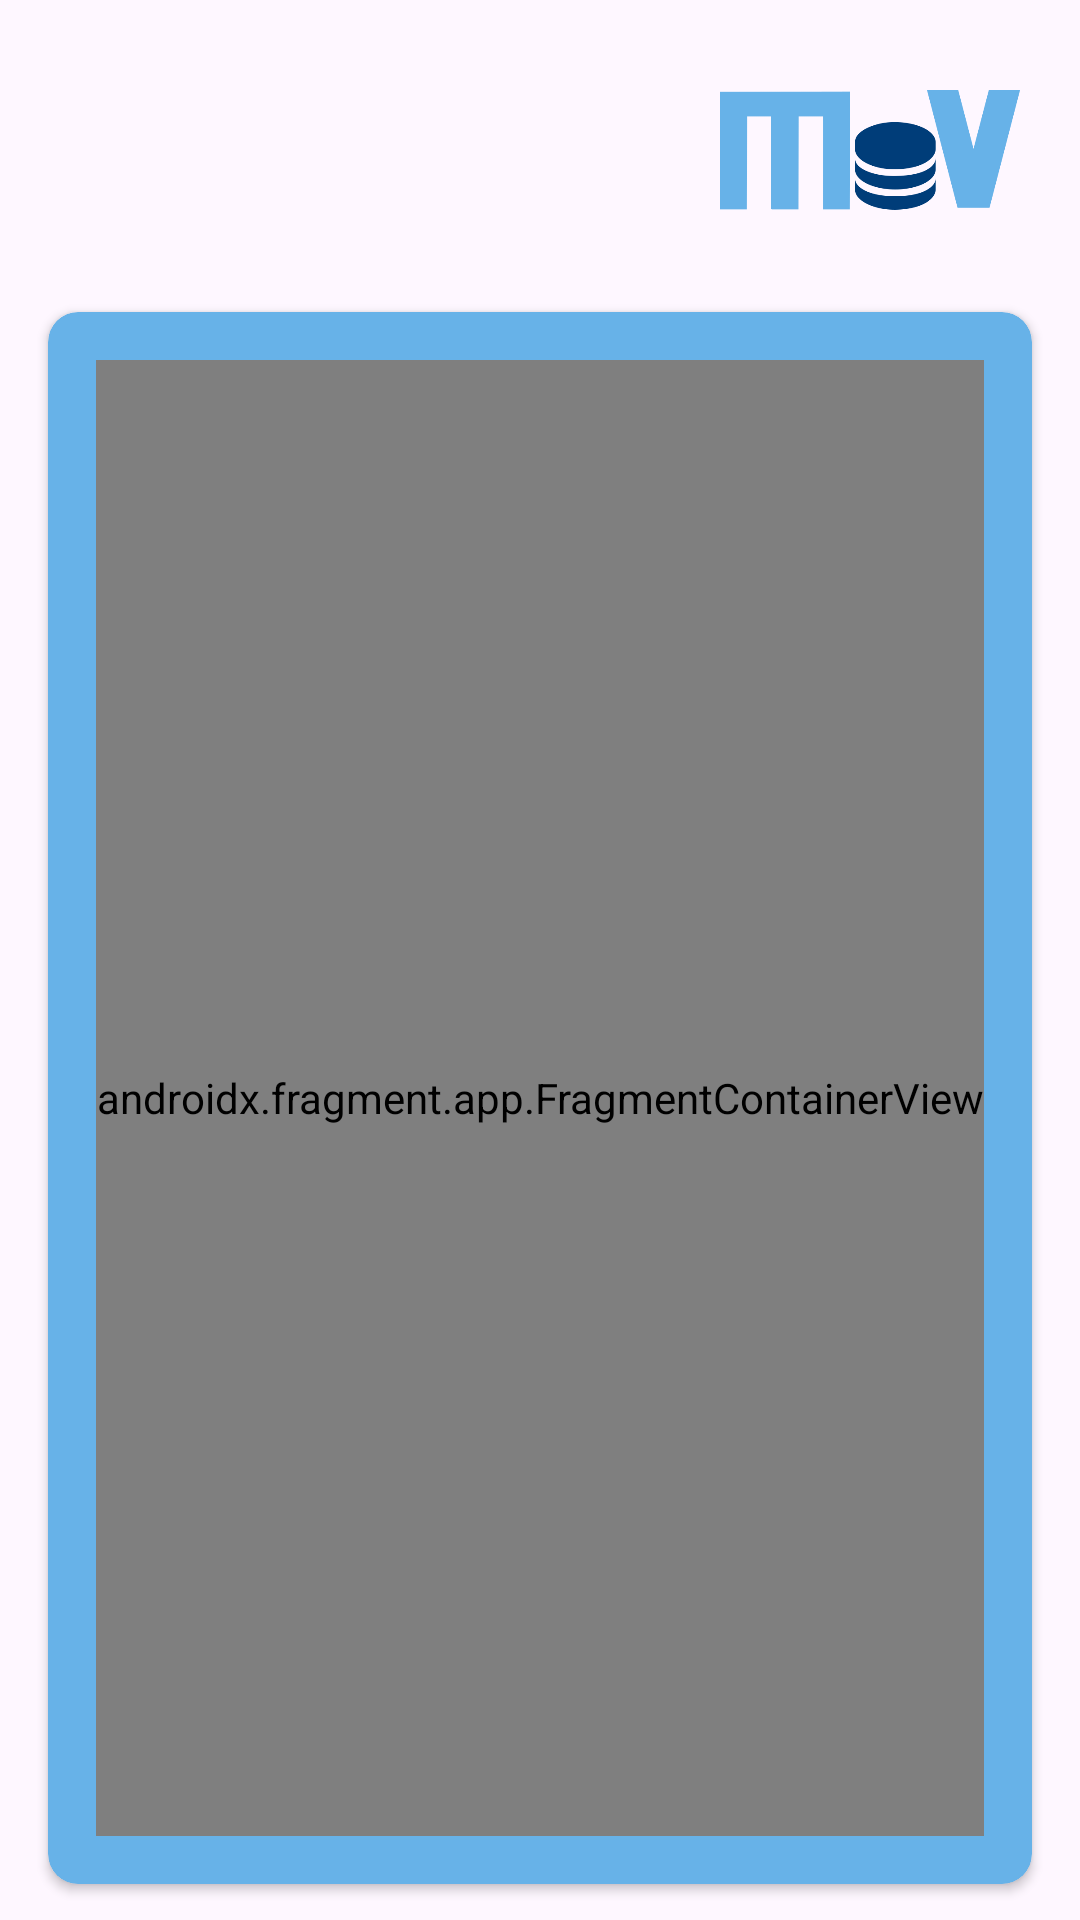

Named icons in this screenshot (1080 x 1920) and their centers, [x,y]:
movie db: [870,150]
